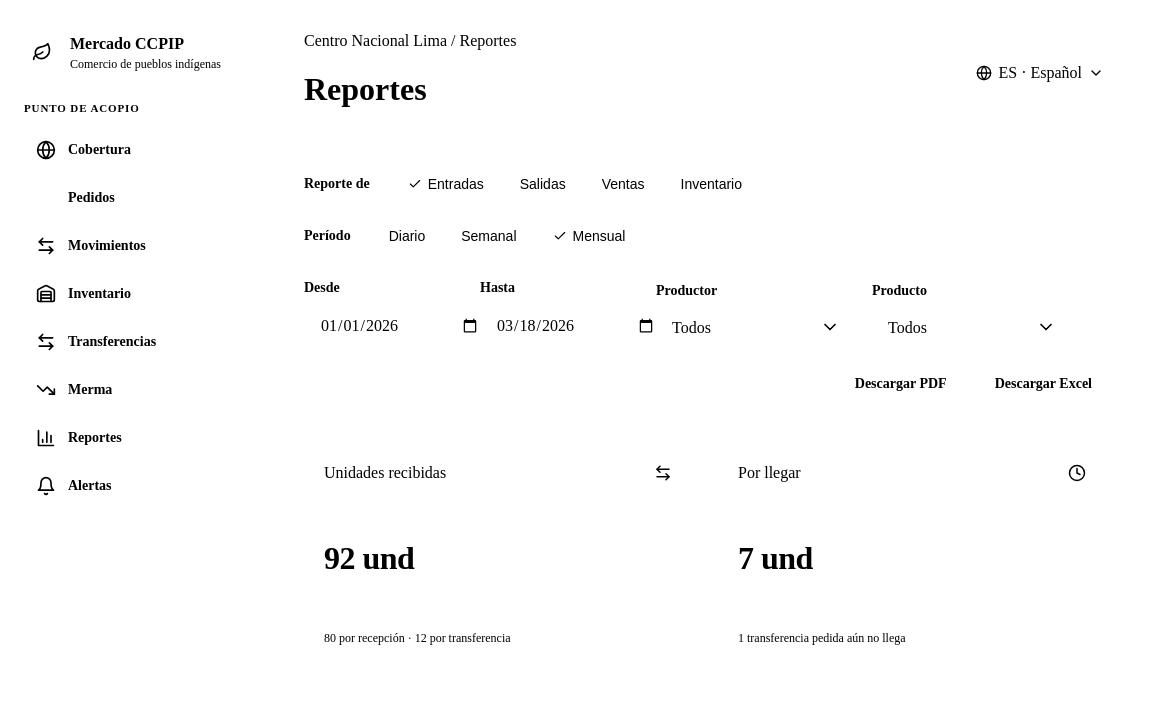
Test: A-06 Reportes del punto de acopio › CCPIP-117: sin entradas lo dice y un rango invalido muestra el error
The image size is (1152, 703).
Click the button "Diario" at (407, 236), box 375,218 -> 439,254
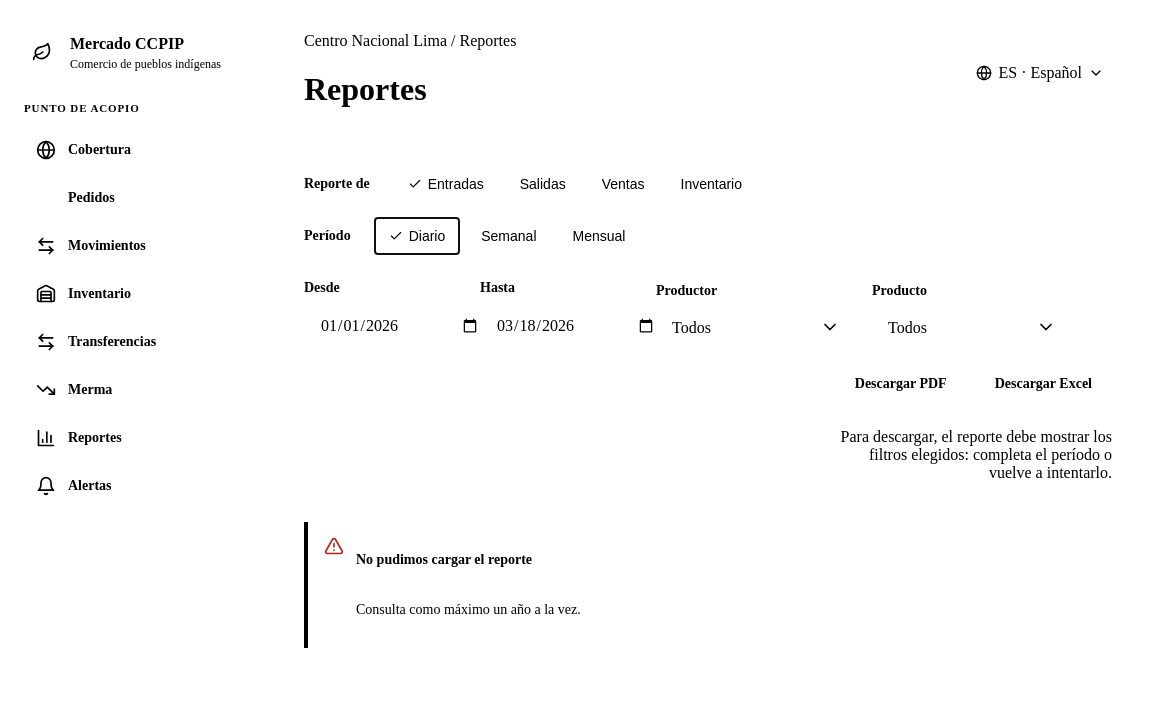
Result: the text "No pudimos cargar el reporte" is shown at 356,552 -> 532,567
Result: the text "Consulta como máximo un año a la vez." is shown at 356,602 -> 581,617
